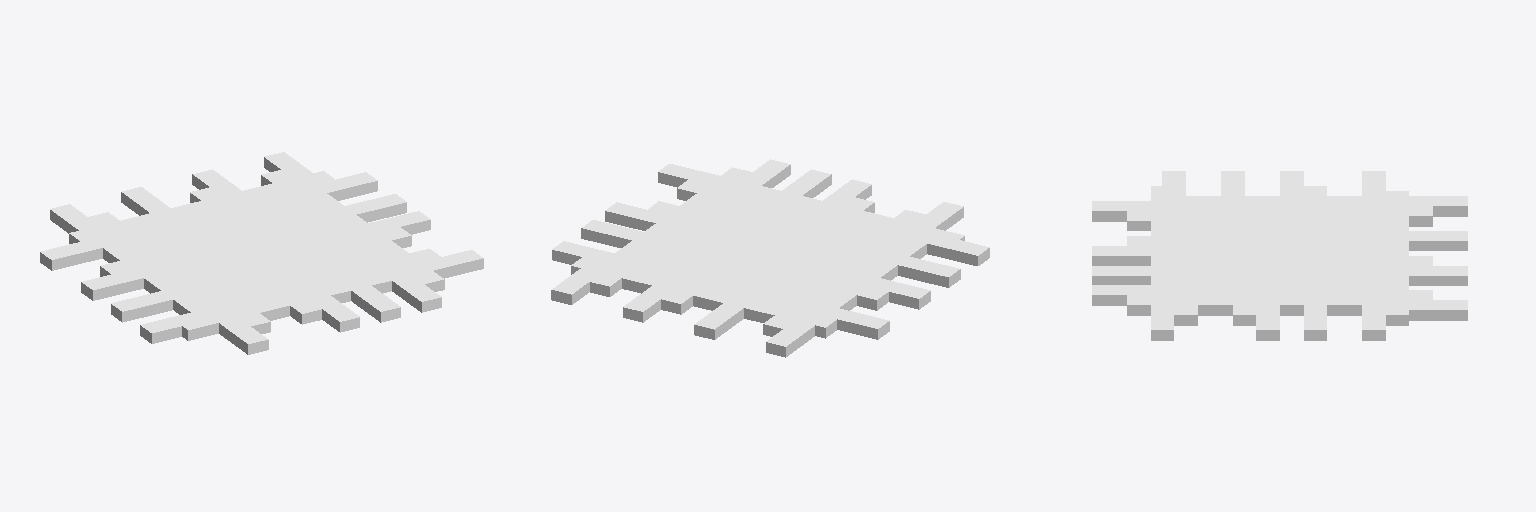
Rendered from quadPeak.obj.
3 renders of one model, left to right at view 1: azimuth 30°, elevation 25°; view 2: azimuth 150°, elevation 25°; view 3: azimuth 270°, elevation 25°, orthographic.
Parts seen in each view (by area): view 1: object 1; view 2: object 1; view 3: object 1.
Part boxes in pixels (x1,y1,x2,y2): object 1: (40, 152, 483, 354); object 1: (551, 159, 989, 357); object 1: (1092, 171, 1467, 340).
Size of the model in its own units: 3.2 by 0.1 by 3.2.